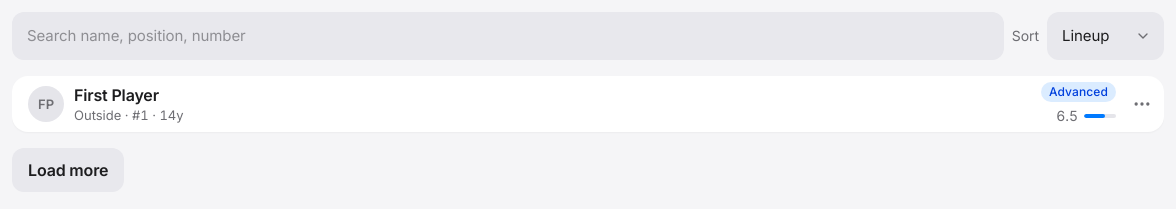
Test: TeamRosterTable › loads the next page when "Load more" is clicked
Click the button "Load more" at (68, 170), box [12, 148, 124, 192]
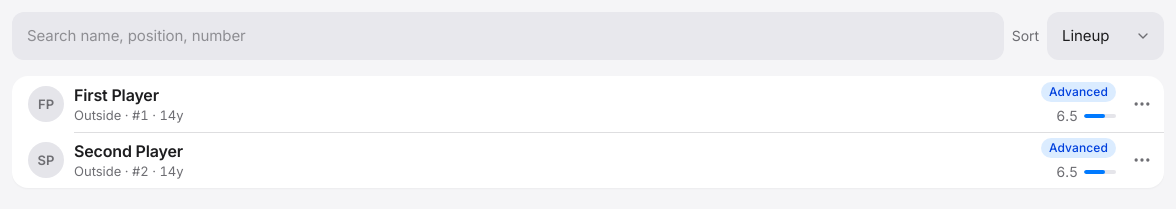
Result: the text "Second Player" is shown at [74, 140, 184, 162]
